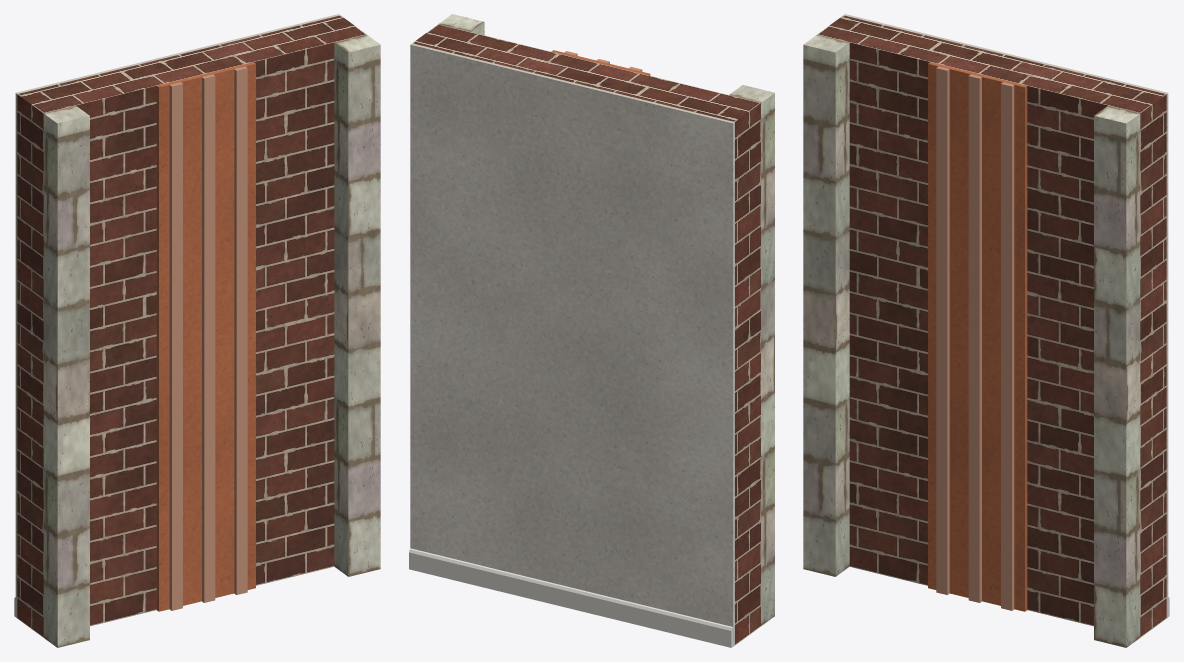
File: f_plain.glb
3 renders of one model, left to right at view 1: azimuth 30°, elevation 25°; view 2: azimuth 150°, elevation 25°; view 3: azimuth 330°, elevation 25°, orthographic.
Visible parts, largest first — view 1: f_plain_brick_d, f_plain_stone, f_plain_terra, f_plain_terra2, f_plain_plaster; view 2: f_plain_plaster, f_plain_brick_d, f_plain_stone, f_plain_trim; view 3: f_plain_brick_d, f_plain_stone, f_plain_terra, f_plain_terra2, f_plain_plaster.
Boxes of the visible parts, x1,y1,x2,y2 form: f_plain_brick_d: [17, 15, 366, 637]; f_plain_stone: [43, 34, 380, 647]; f_plain_terra: [156, 62, 255, 611]; f_plain_terra2: [169, 66, 247, 610]; f_plain_plaster: [15, 14, 339, 617]; f_plain_plaster: [410, 43, 734, 646]; f_plain_brick_d: [412, 24, 760, 645]; f_plain_stone: [438, 14, 774, 625]; f_plain_trim: [409, 548, 732, 647]; f_plain_brick_d: [817, 15, 1166, 637]; f_plain_stone: [803, 34, 1140, 647]; f_plain_terra: [928, 62, 1027, 611]; f_plain_terra2: [936, 66, 1014, 610]; f_plain_plaster: [844, 14, 1168, 617].
Size of the model in its own units: 2 by 3.1 by 0.466.
Materials: 6 (4 with a texture image).
